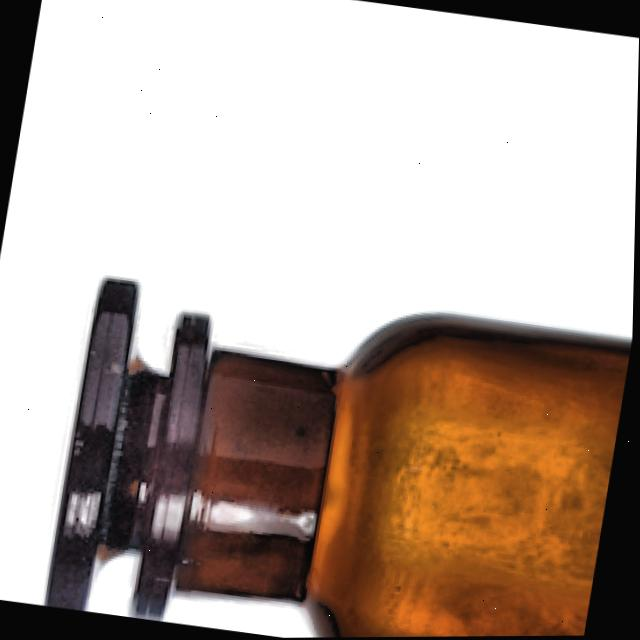glass: (47, 278, 634, 638)
